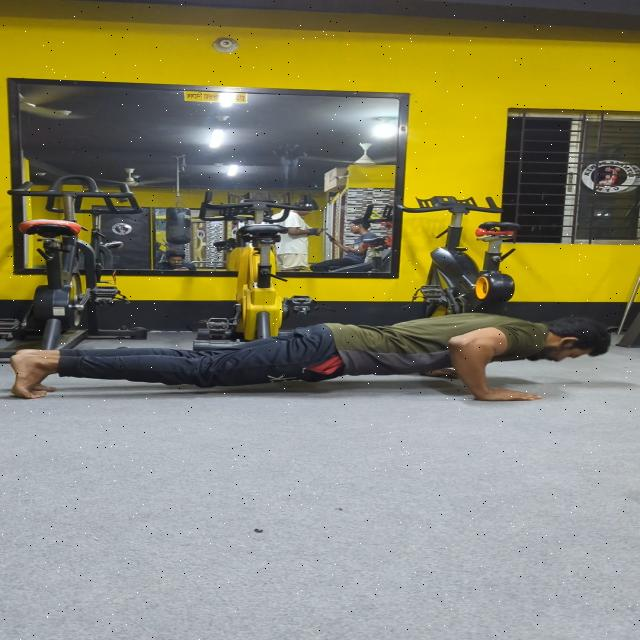Normal_PushUps: (0, 263, 619, 425)
